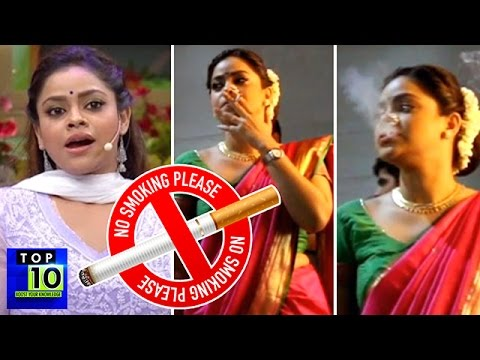cigarette: (67, 170, 290, 294), (224, 89, 253, 109)
